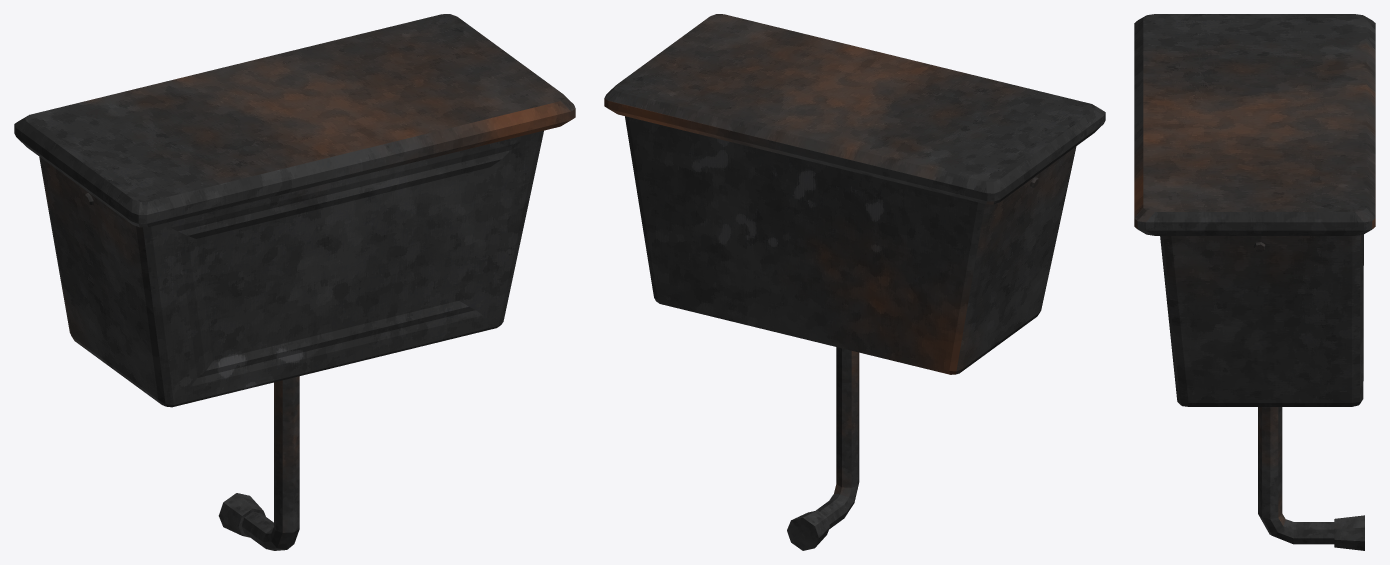
The model's file is 장애물_물탱크.fbx.
The picture shows the model from 3 angles, left to right: view 1: azimuth 30°, elevation 25°; view 2: azimuth 150°, elevation 25°; view 3: azimuth 270°, elevation 25°; orthographic projection. The views are drawn at different scales.
Parts seen in each view (by area): view 1: 물탱크; view 2: 물탱크; view 3: 물탱크.
Part boxes in pixels (bbox=[...]): 물탱크: bbox=[14, 14, 575, 550]; 물탱크: bbox=[604, 14, 1105, 550]; 물탱크: bbox=[1134, 14, 1375, 550].
Bounding box in the file's own units: 59.67 × 59.92 × 29.96.
